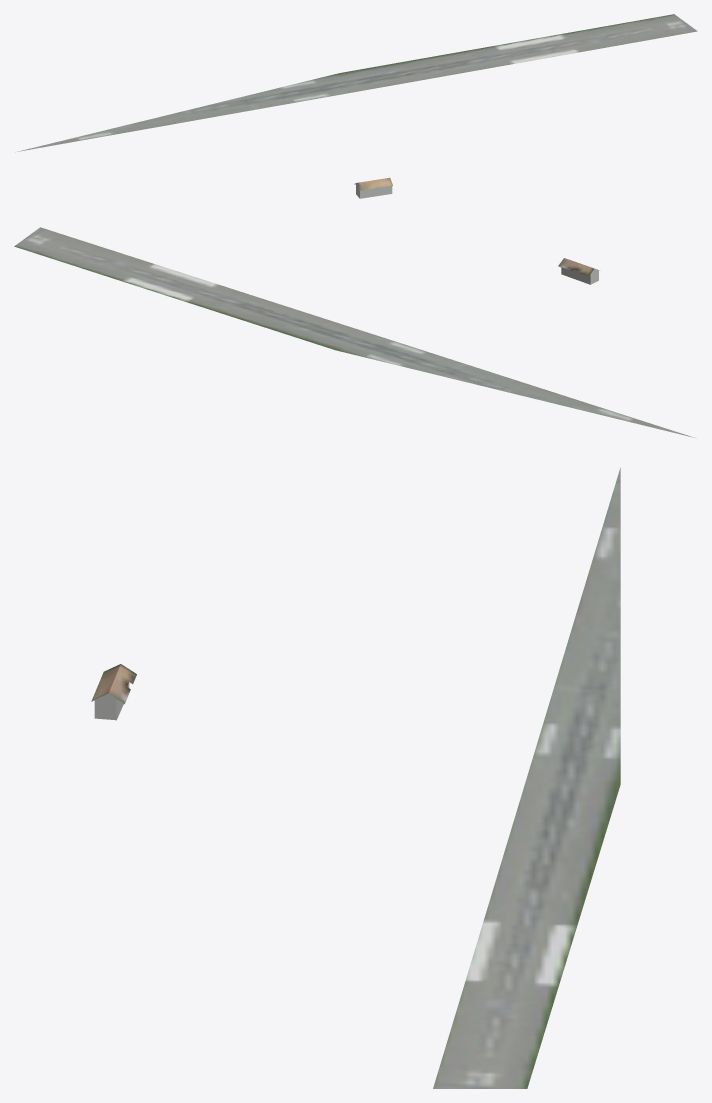
The model's file is LSZR_0_-1.glb.
The picture shows the model from 3 angles, top to bottom: view 1: azimuth 30°, elevation 25°; view 2: azimuth 150°, elevation 25°; view 3: azimuth 270°, elevation 25°; orthographic projection. The views are drawn at different scales.
Parts seen in each view (by area): view 1: pavement_LSZR_pavement_5520_2522, building_e94a9ece7dcc709e, building_6b7b994a937a7dc4; view 2: pavement_LSZR_pavement_5520_2522, building_e94a9ece7dcc709e, building_6b7b994a937a7dc4; view 3: pavement_LSZR_pavement_5520_2522, building_e94a9ece7dcc709e.
Part boxes in pixels (x1,y1,x2,y2): pavement_LSZR_pavement_5520_2522: [15, 14, 697, 152]; building_e94a9ece7dcc709e: [354, 177, 392, 190]; building_6b7b994a937a7dc4: [356, 183, 392, 198]; pavement_LSZR_pavement_5520_2522: [14, 227, 694, 437]; building_e94a9ece7dcc709e: [558, 258, 600, 276]; building_6b7b994a937a7dc4: [561, 267, 598, 284]; pavement_LSZR_pavement_5520_2522: [433, 467, 620, 1088]; building_e94a9ece7dcc709e: [91, 664, 136, 704].
Size of the model in its own units: 471 by 9.4 by 170.
3 materials, 2 textured.
